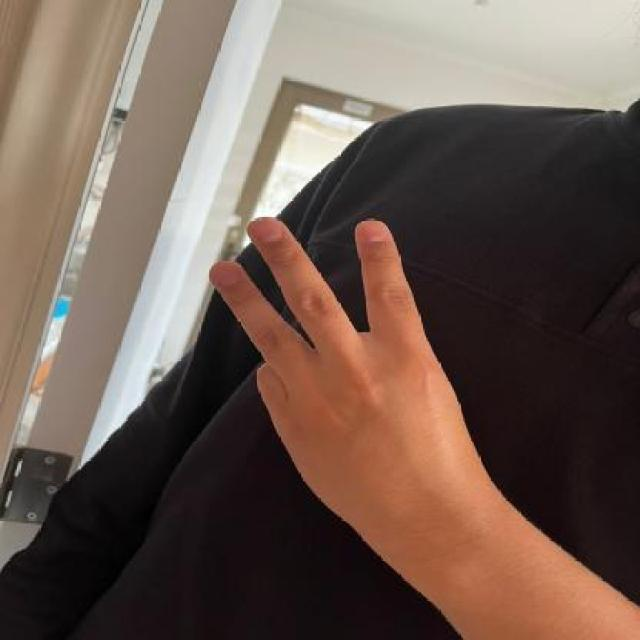W: (198, 198, 468, 516)
